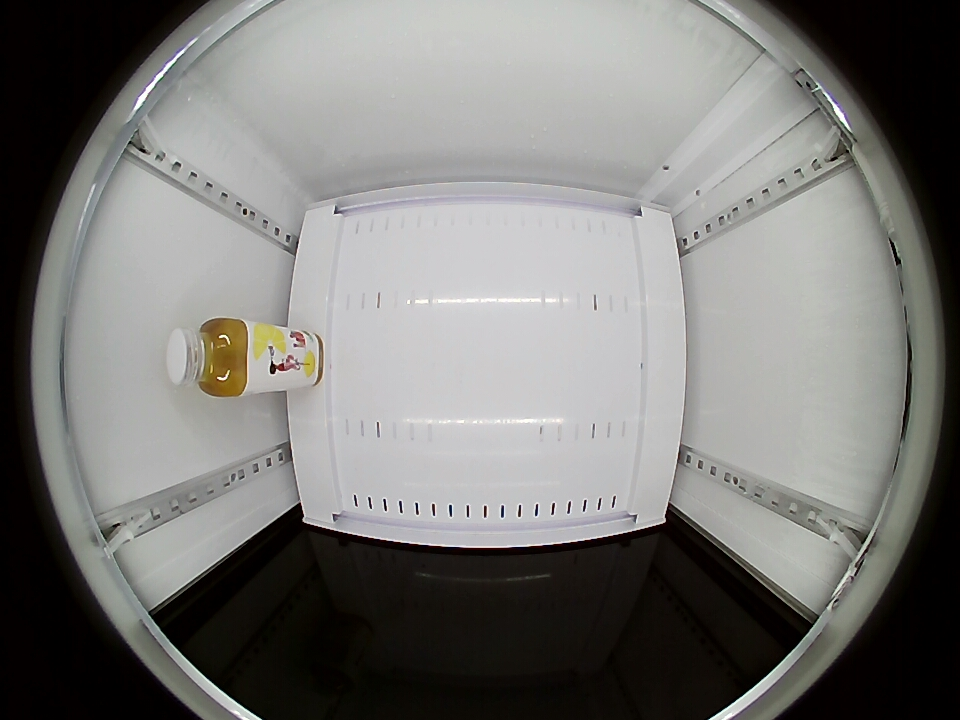chapai: (166, 317, 253, 399)
